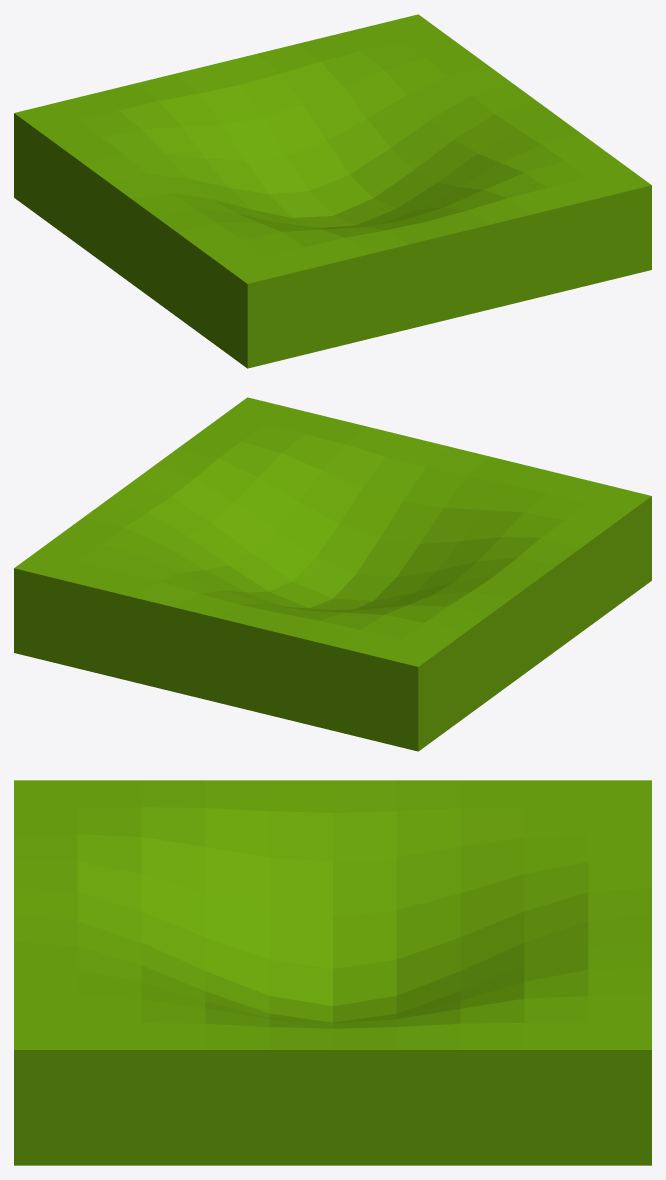
Rendered from TileGround_44.fbx.
3 views of the same model, one above another, from view 1: azimuth 30°, elevation 25°; view 2: azimuth 150°, elevation 25°; view 3: azimuth 270°, elevation 25° (orthographic). The views are drawn at different scales.
Visible parts, largest first — view 1: TileGround_44; view 2: TileGround_44; view 3: TileGround_44.
Boxes of the visible parts, x1,y1,x2,y2 form: TileGround_44: (14,14,651,368); TileGround_44: (14,397,651,751); TileGround_44: (14,780,651,1165).
Bounding box in the file's own units: 500 × 100 × 500.
